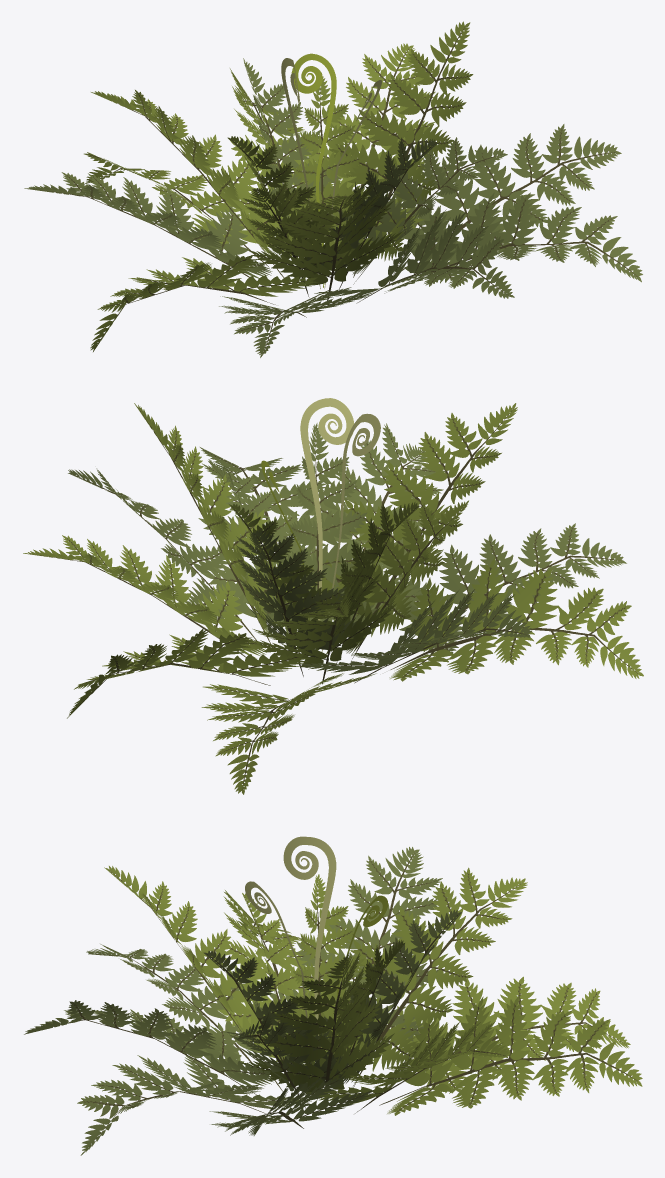
Rendered from Fern_1a.fbx.
The picture shows the model from 3 angles, top to bottom: view 1: azimuth 30°, elevation 25°; view 2: azimuth 150°, elevation 25°; view 3: azimuth 270°, elevation 25°; orthographic projection. The views are drawn at different scales.
Parts seen in each view (by area): view 1: Fern_1a; view 2: Fern_1a; view 3: Fern_1a.
Boxes of the visible parts, <box> form: Fern_1a: <box>24,21,642,357</box>; Fern_1a: <box>23,398,643,794</box>; Fern_1a: <box>24,836,642,1155</box>.
Size of the model in its own units: 258 by 111 by 256.
1 material, 1 textured.
